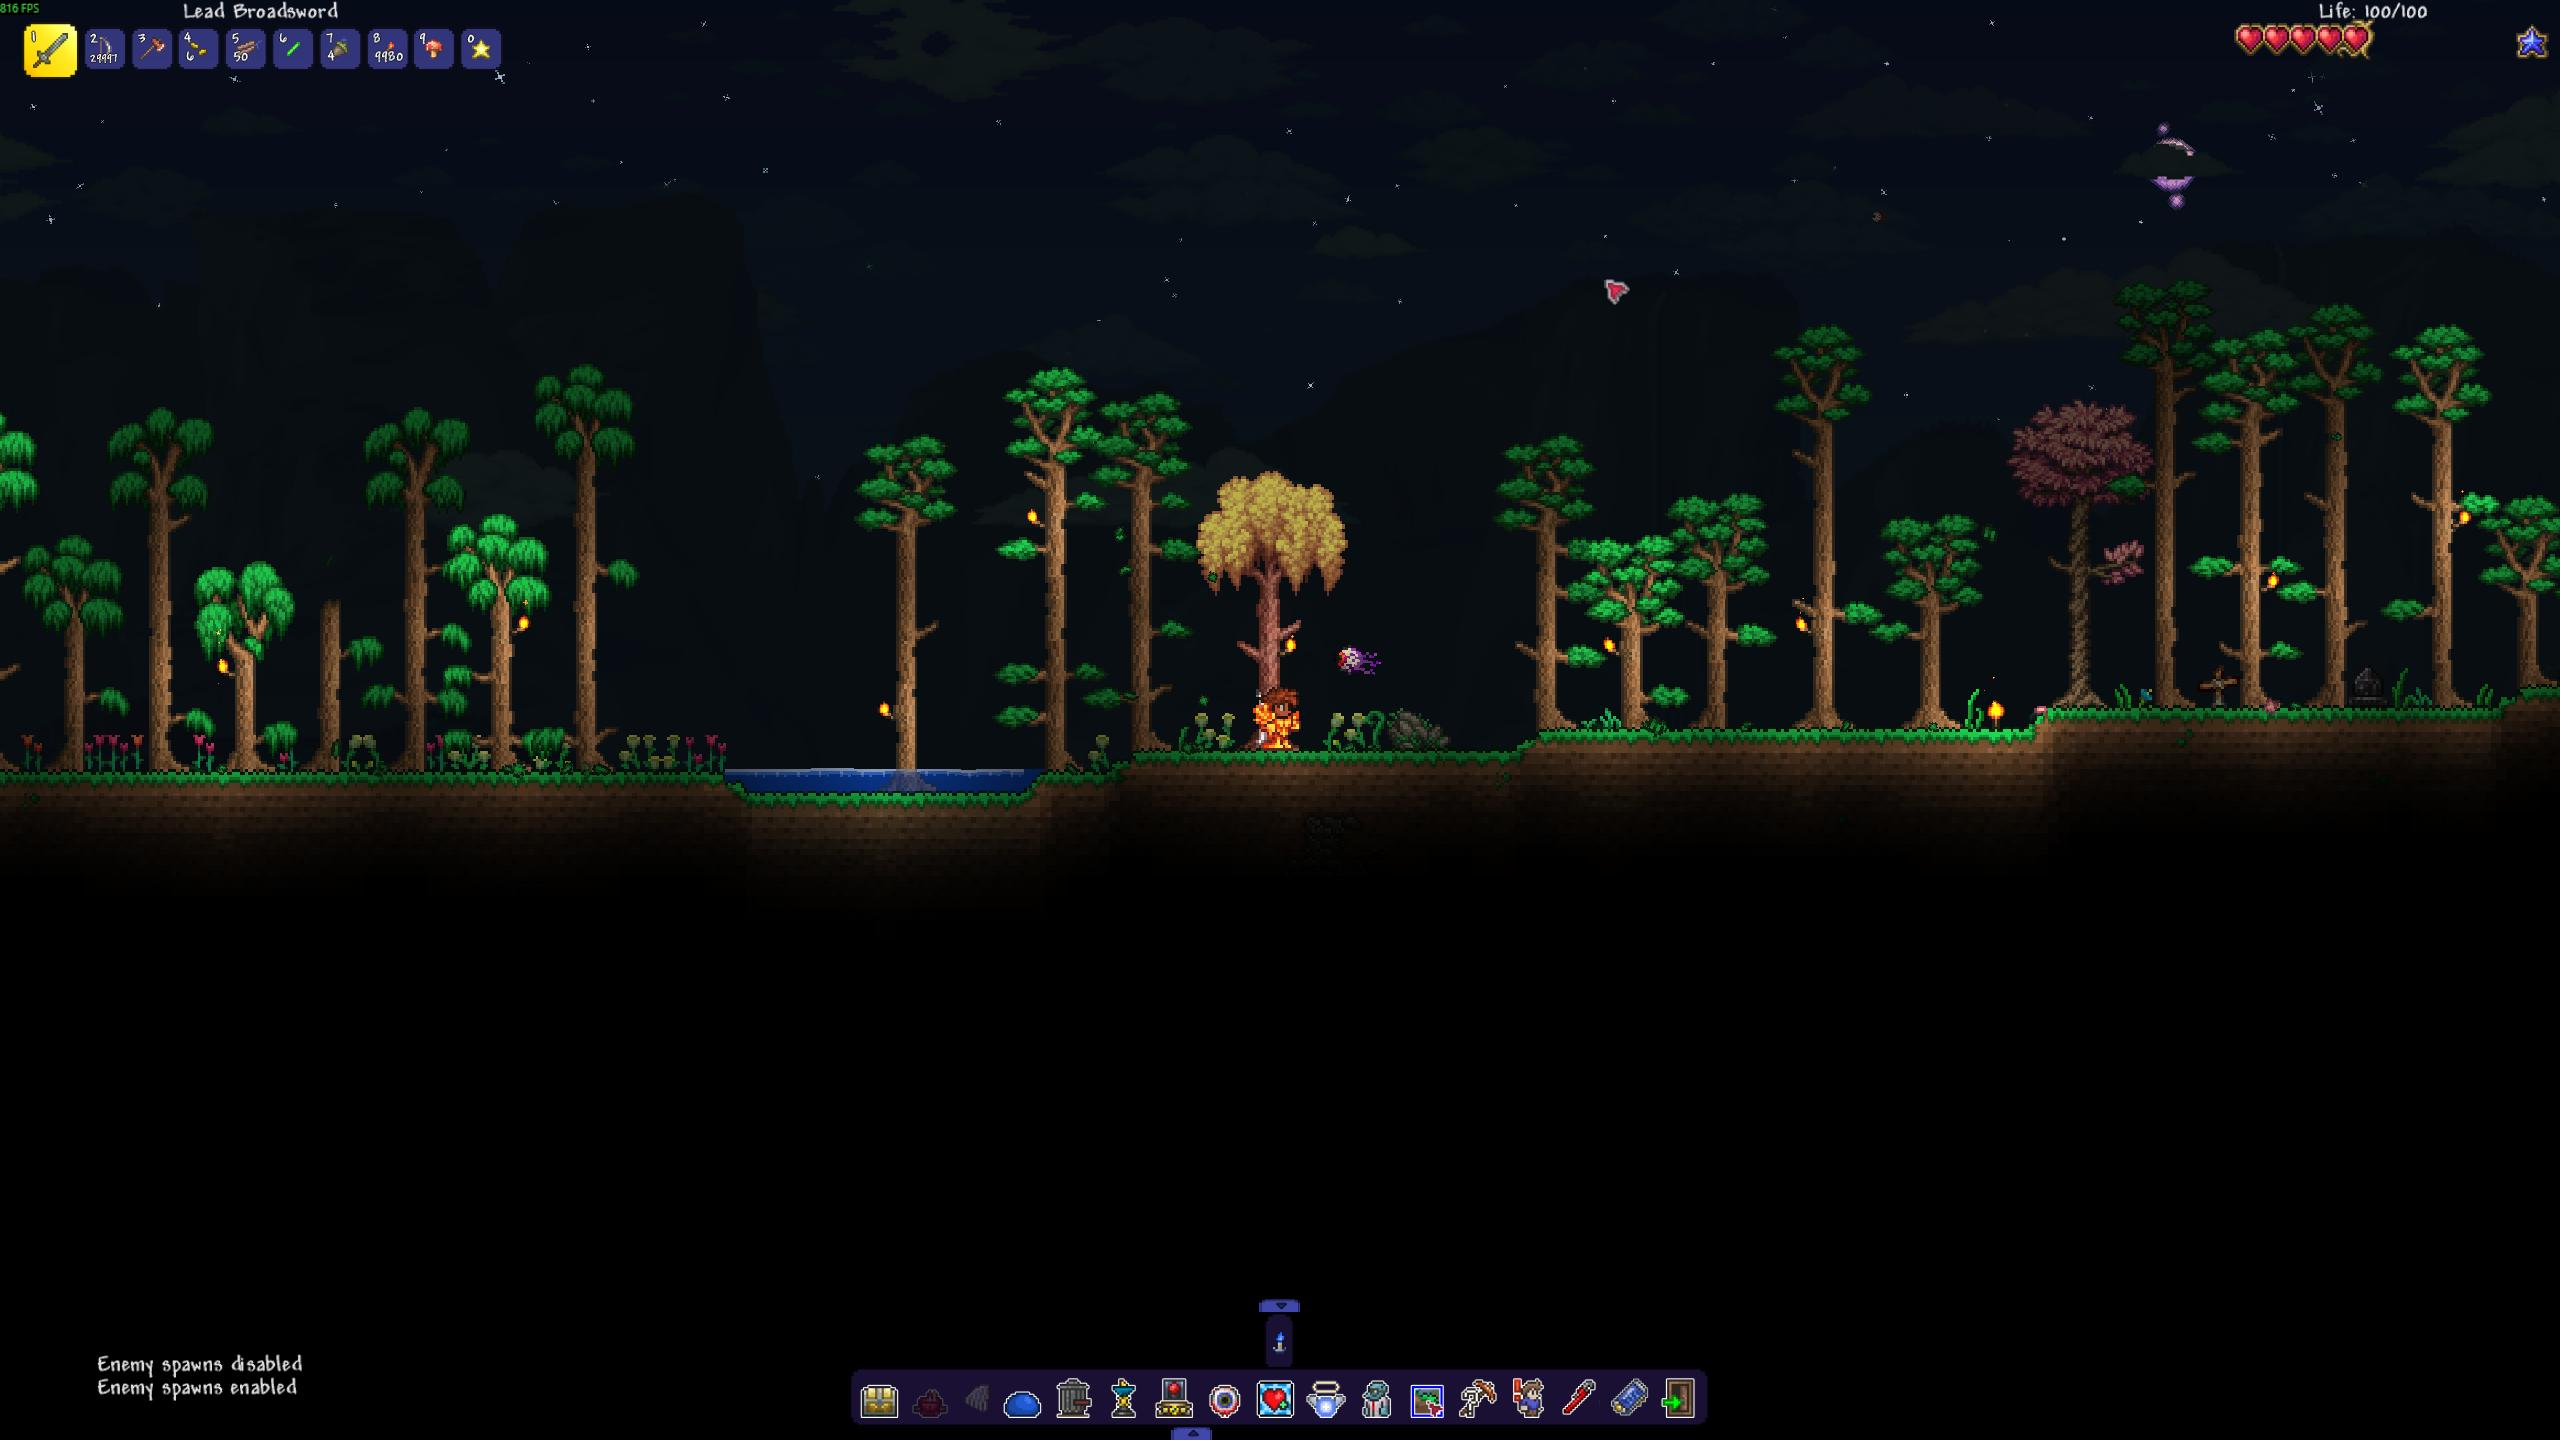Demon Eye: (1333, 640, 1387, 682)
